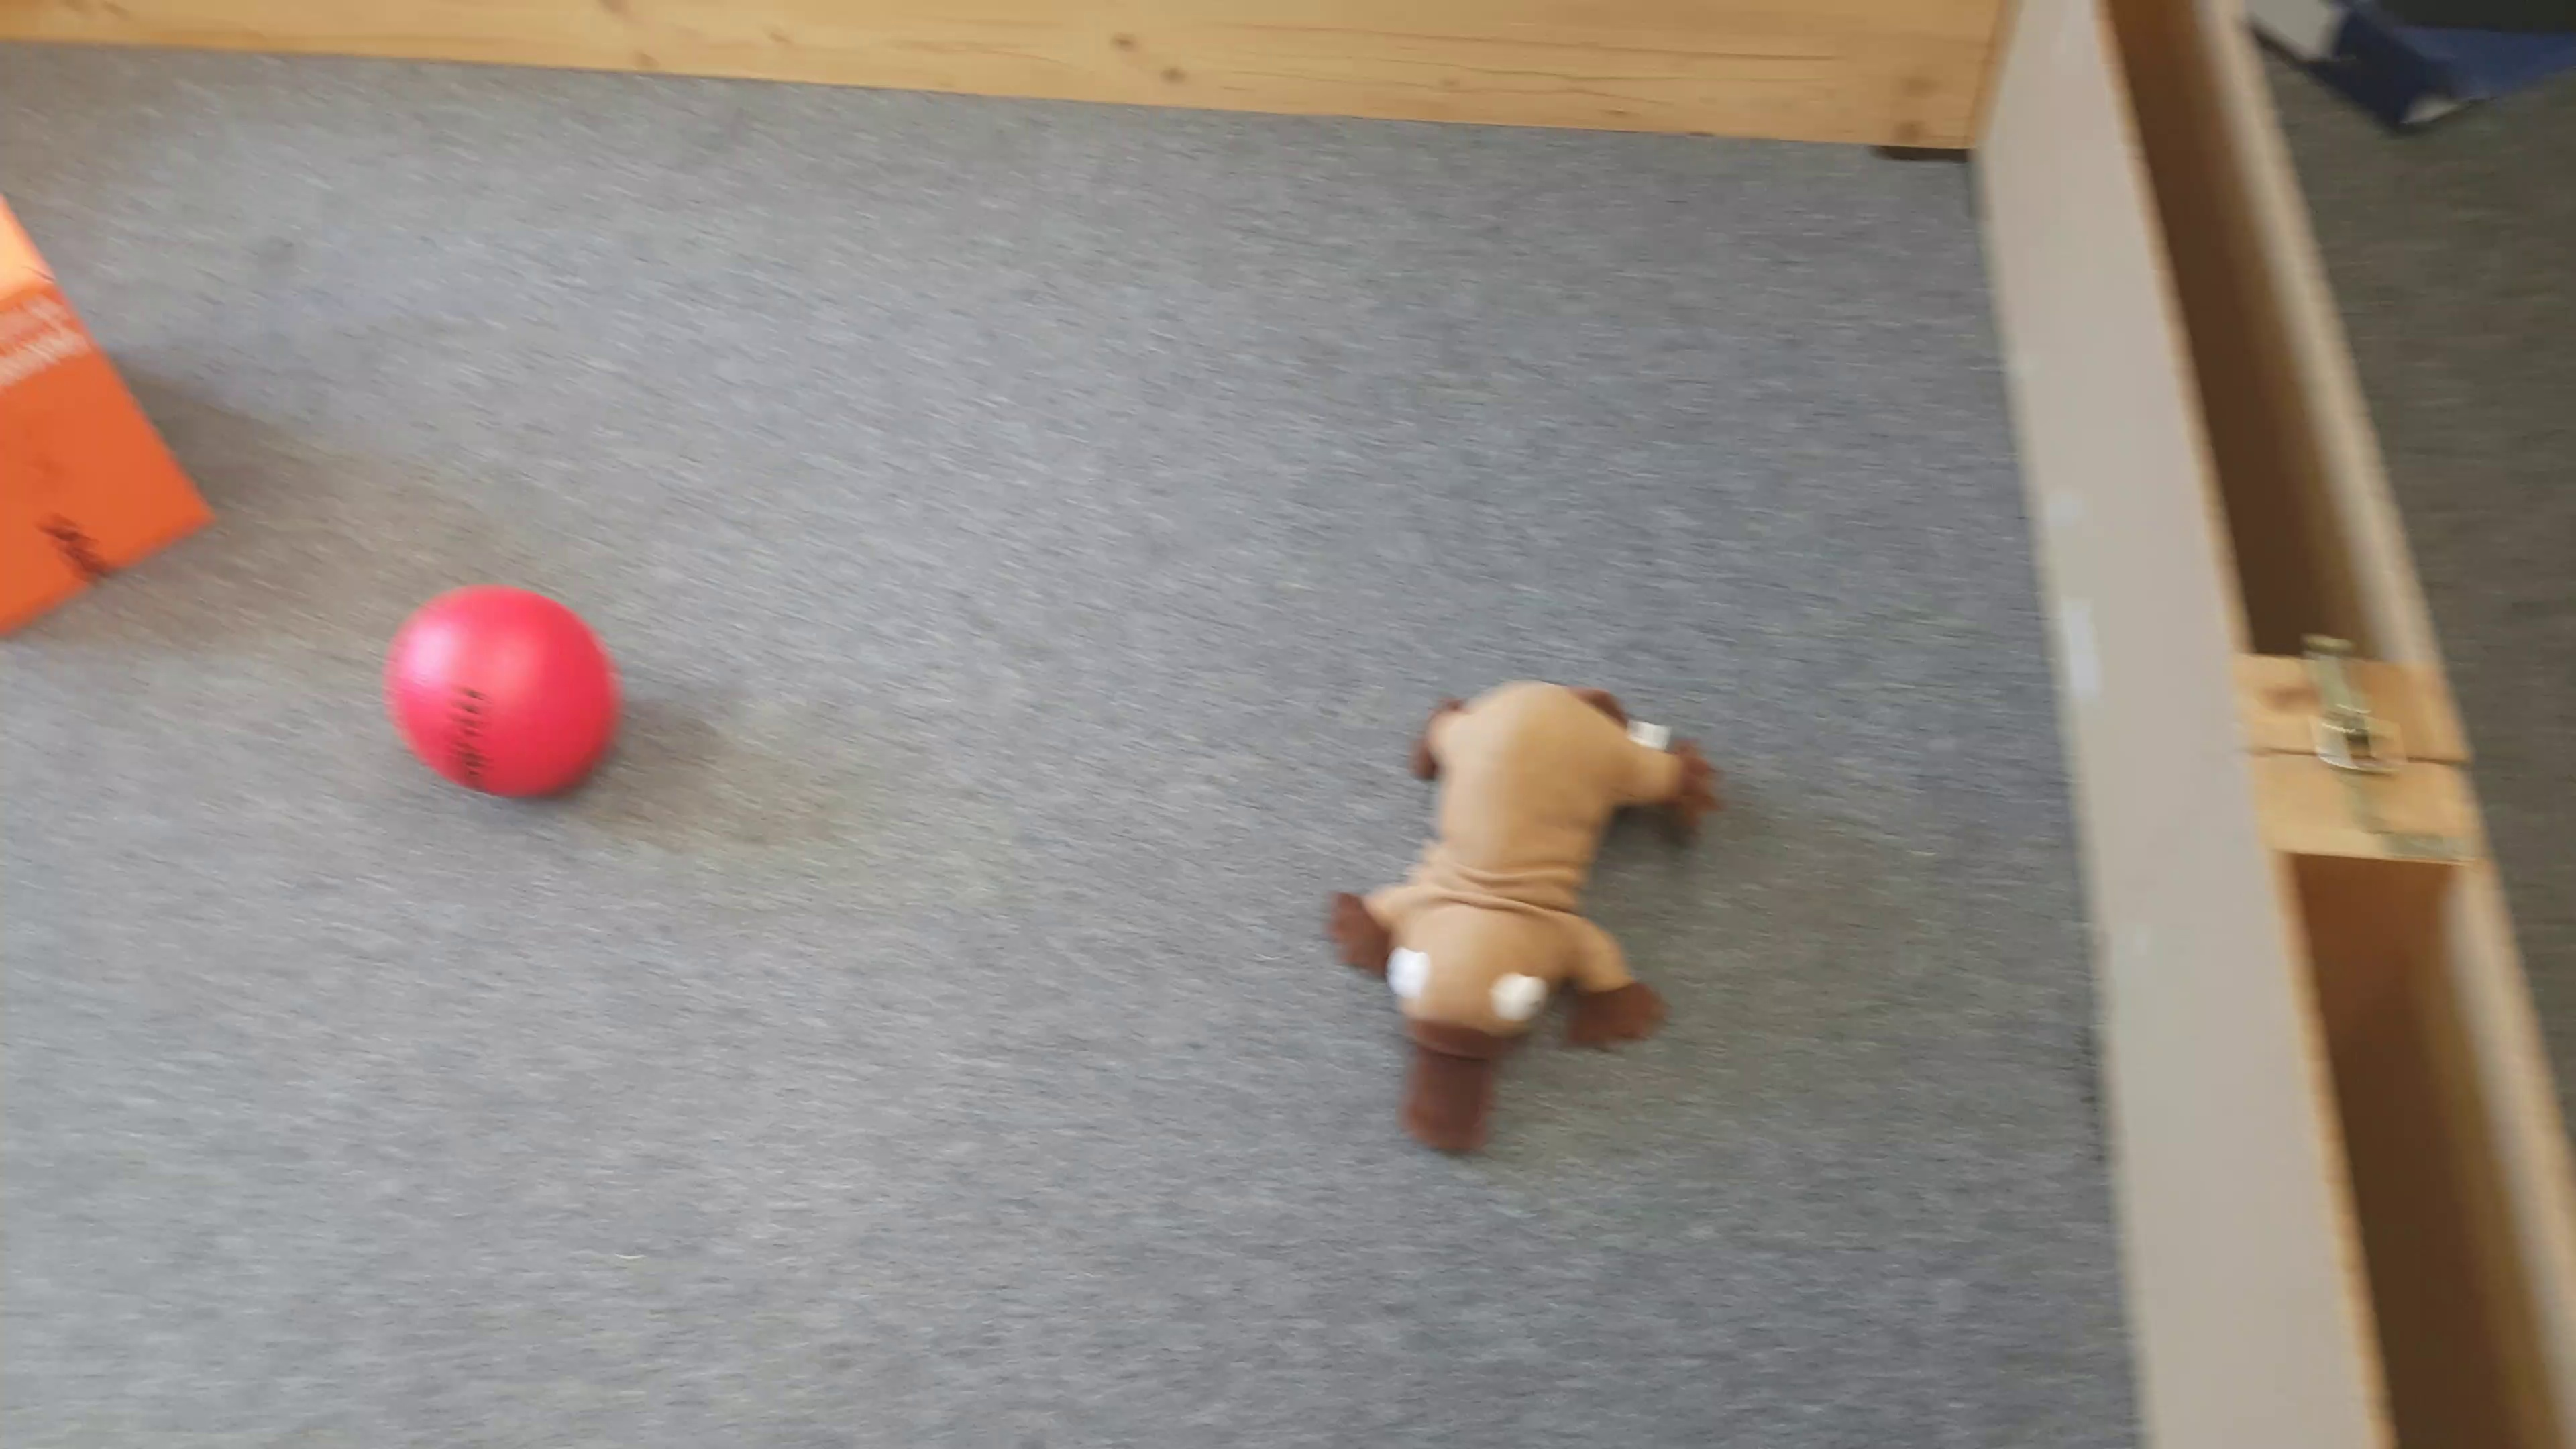grasp: (1327, 683, 1727, 1169)
kick: (391, 577, 609, 805)
push: (4, 175, 225, 649)
